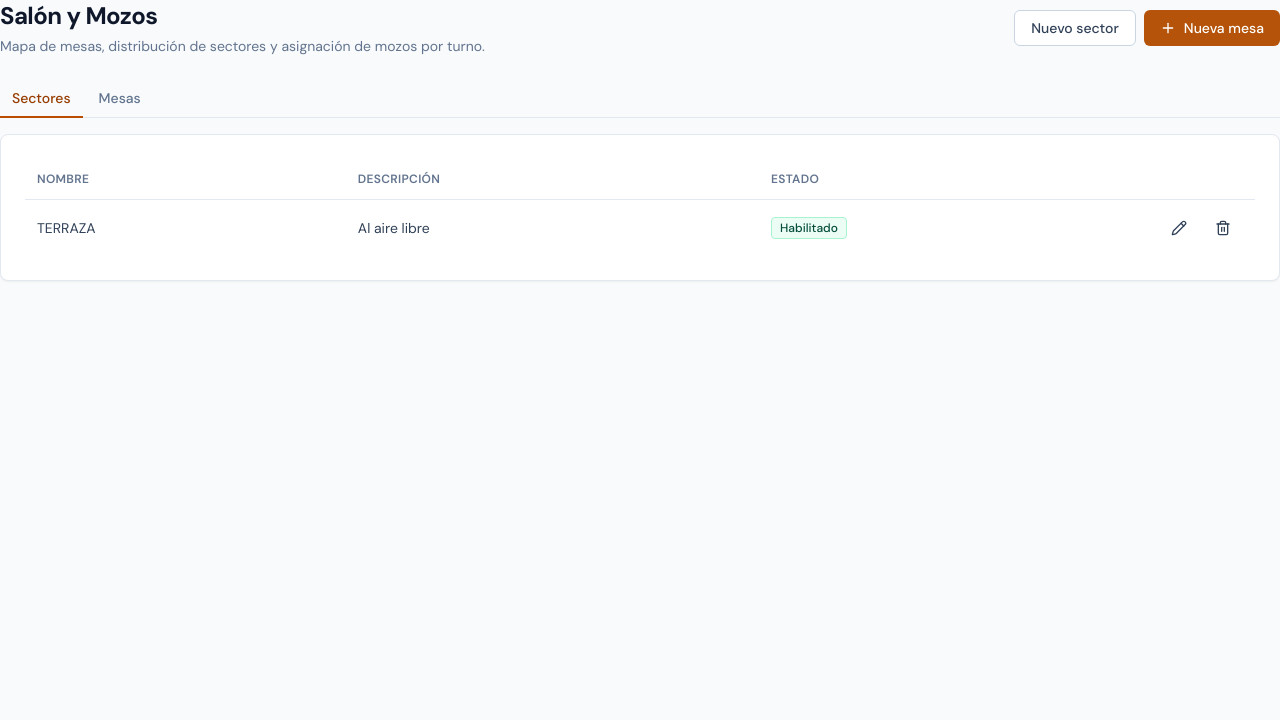
Scenario: SalonPage: edición de sector: validaciones › al cancelar no envía nada y la fila mantiene sus datos (CA 4 de #34)
Click the button named "Editar «Terraza»" at (1179,228), box x1=1159 y1=212 x2=1199 y2=244
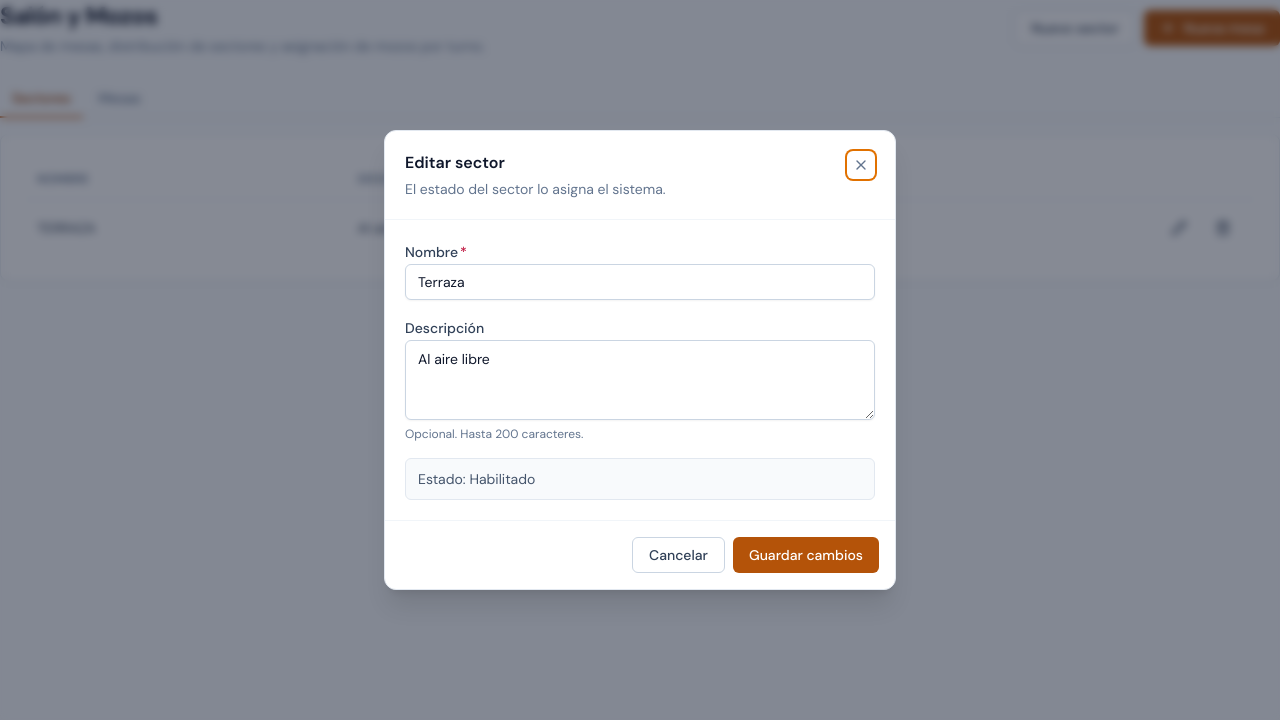
Replace the text in the field labelled "Nombre*" with "Terraza norte" at (640,282), box x1=405 y1=264 x2=875 y2=300
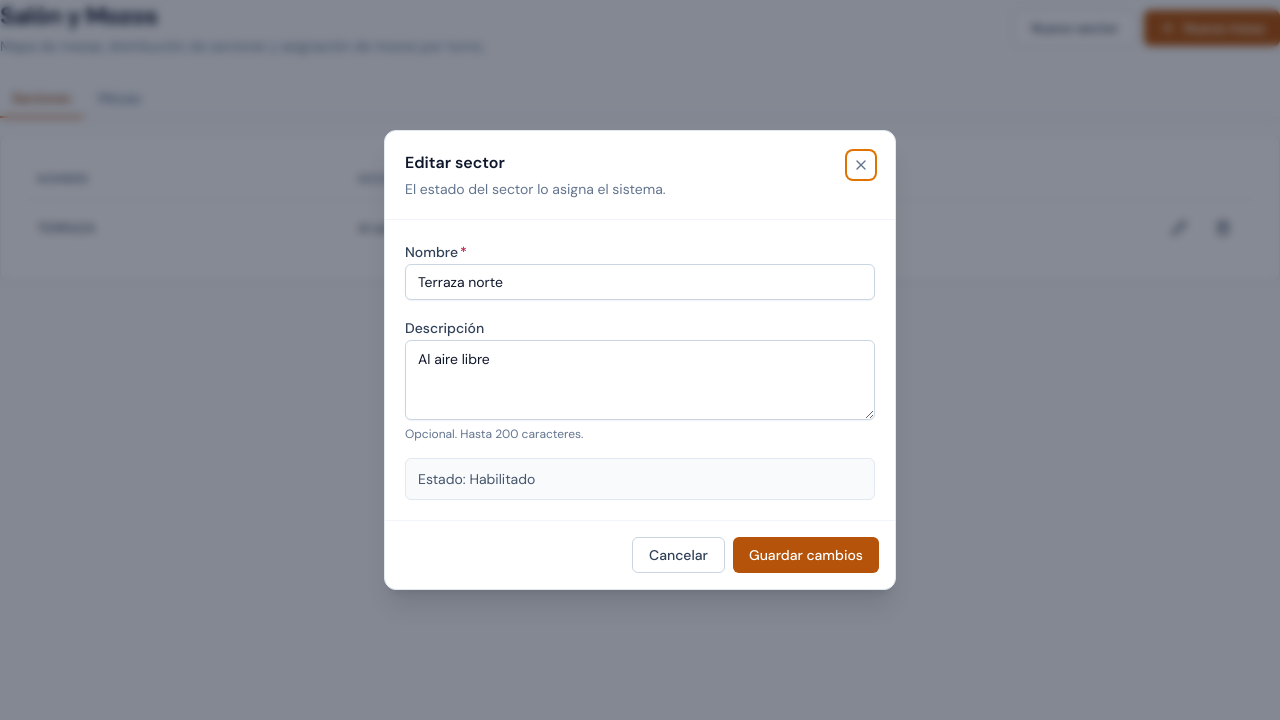
Click the button "Cancelar" at (678,555), box x1=632 y1=537 x2=725 y2=573
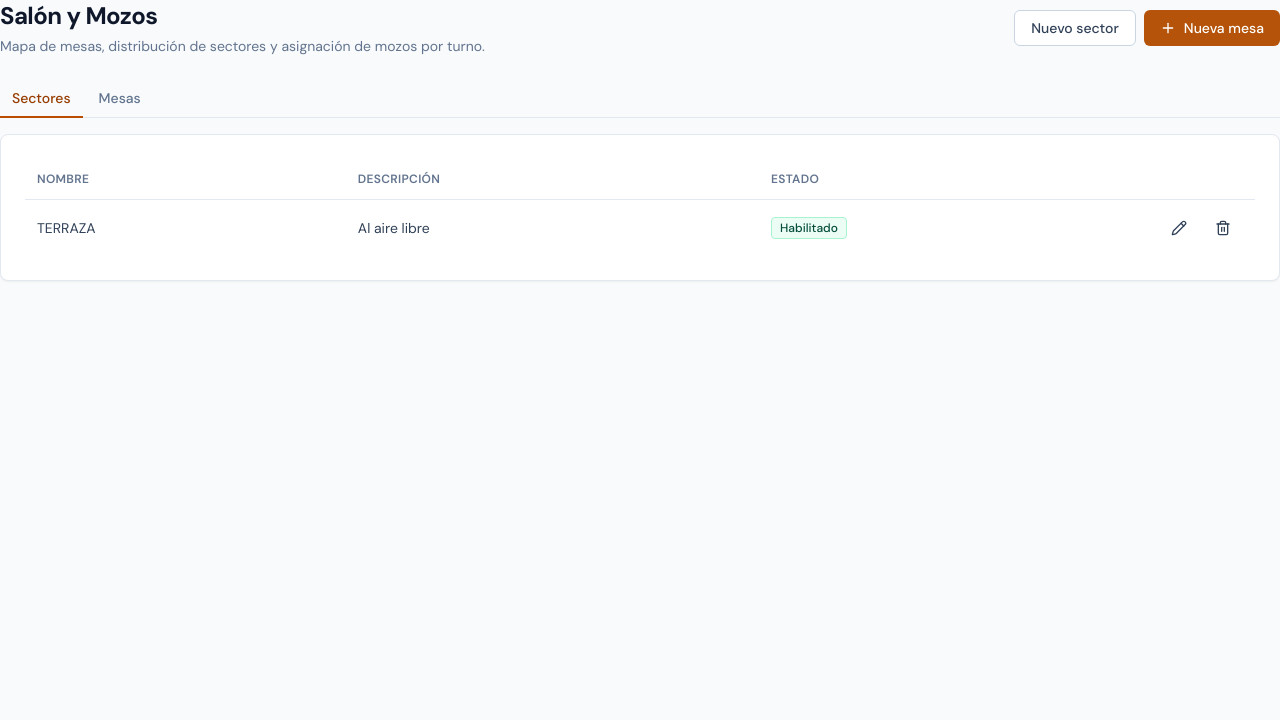
Check: the text "Terraza" is shown, box x1=37 y1=218 x2=96 y2=236
Check: the dialog is gone
